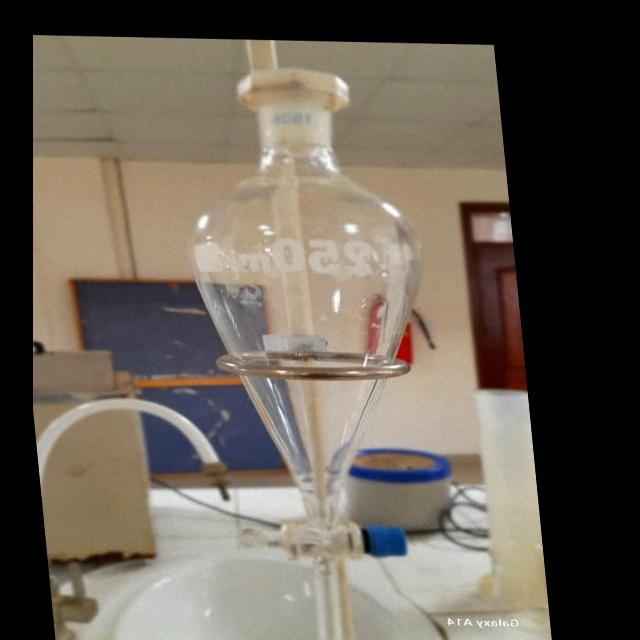Separating Funnel: (159, 51, 464, 640)
